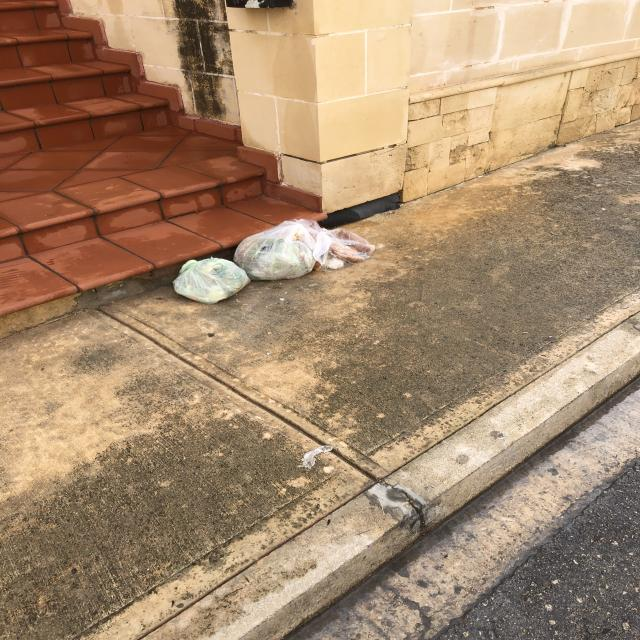Organic Waste -White Bag-: (233, 221, 370, 283), (175, 256, 251, 305)
